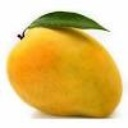mango: (6, 20, 123, 119)
